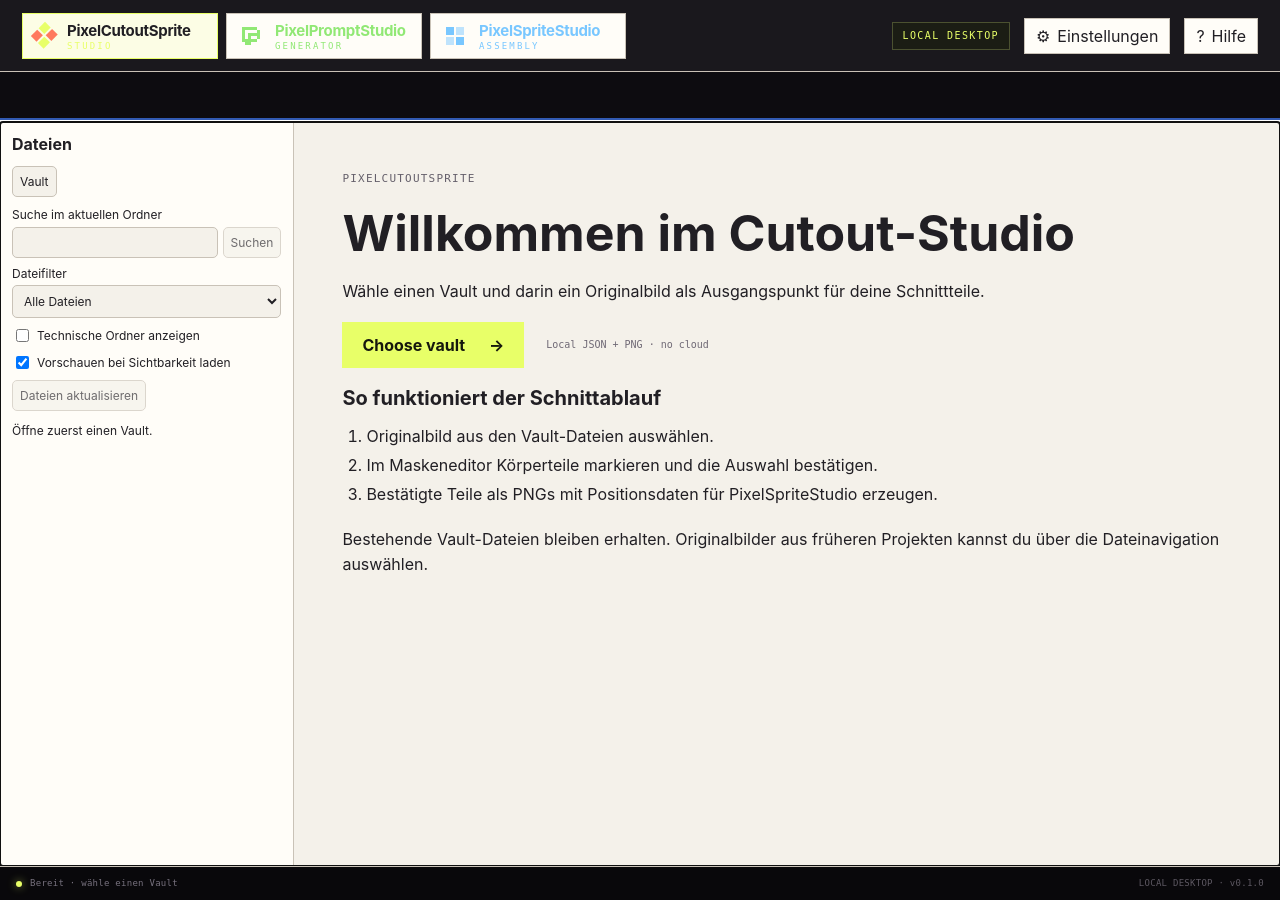
Test: integrated PixelPromptStudio › restores both the Cutout route and the independent prompt view
This screenshot has width=1280, height=900.
Expected: the heading "Willkommen im Cutout-Studio" is shown, [342,203,1075,263]
Click the button with aria-label "PixelPromptStudio Generator öffnen" at (324, 36), box [226,12,422,58]
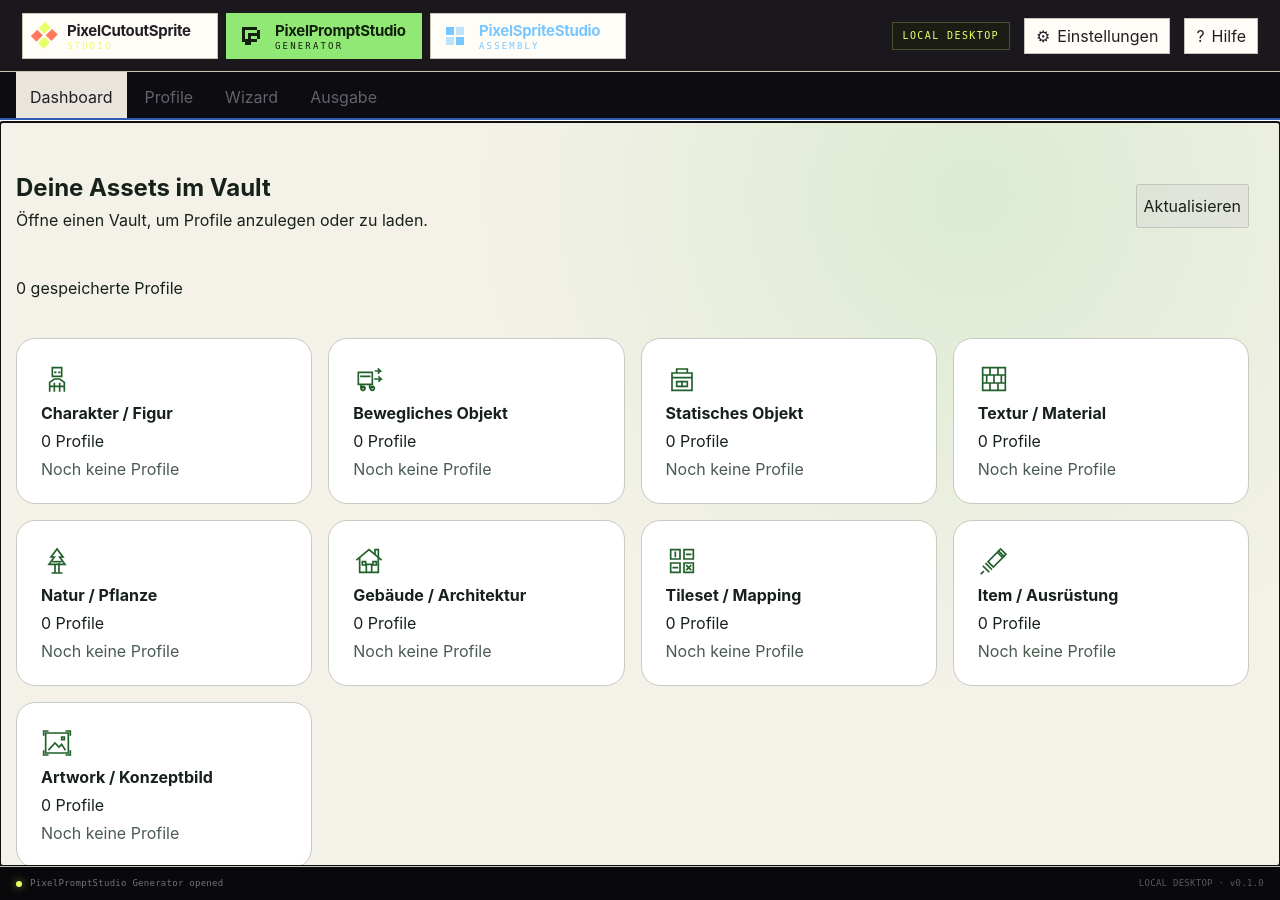
Click the button "Profile" at (169, 96), box [130,72,207,121]
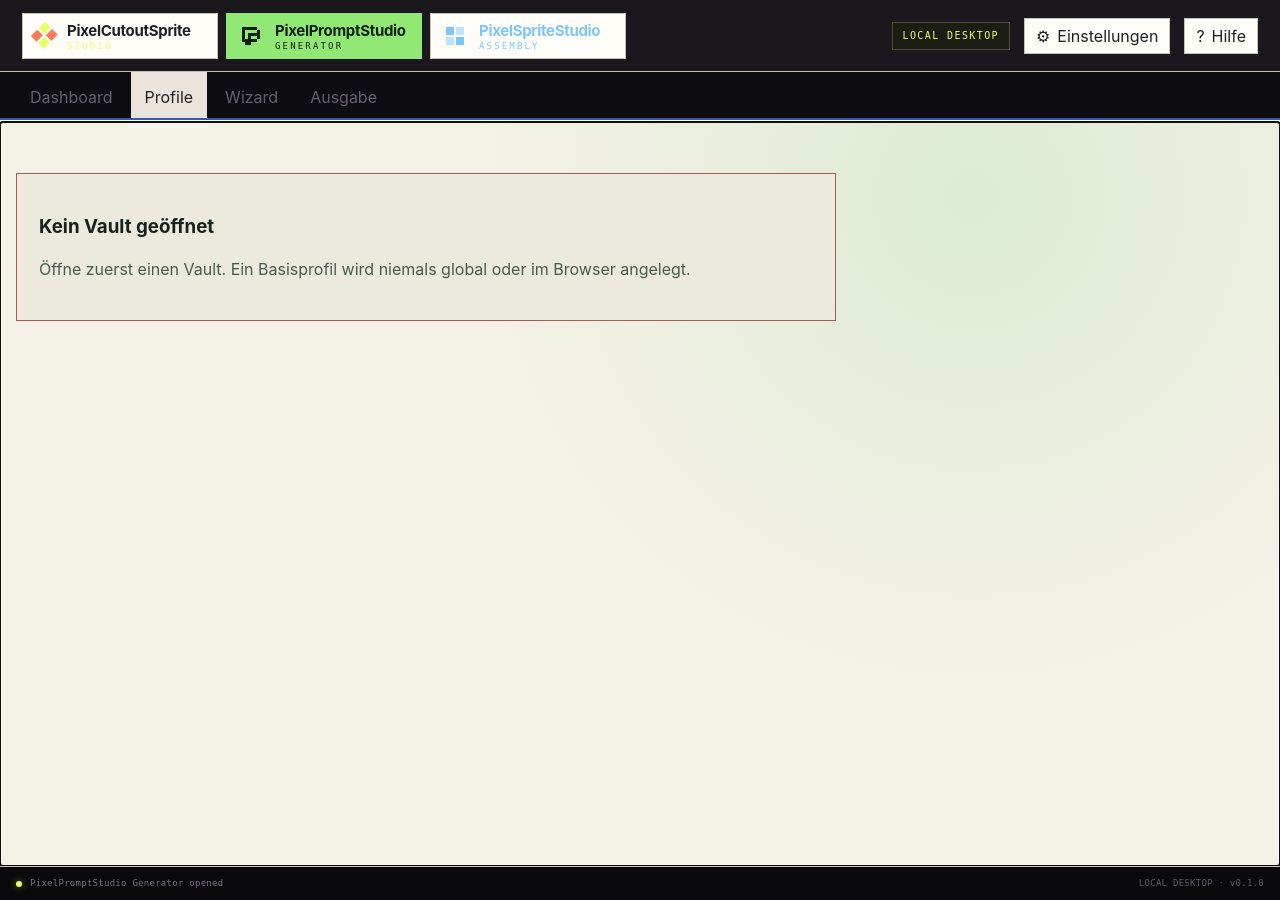
Expected: the heading "Kein Vault geöffnet" is shown, [39,215,214,238]
Click the button with aria-label "PixelCutoutSprite Studio öffnen" at (120, 36), box [22,12,218,58]
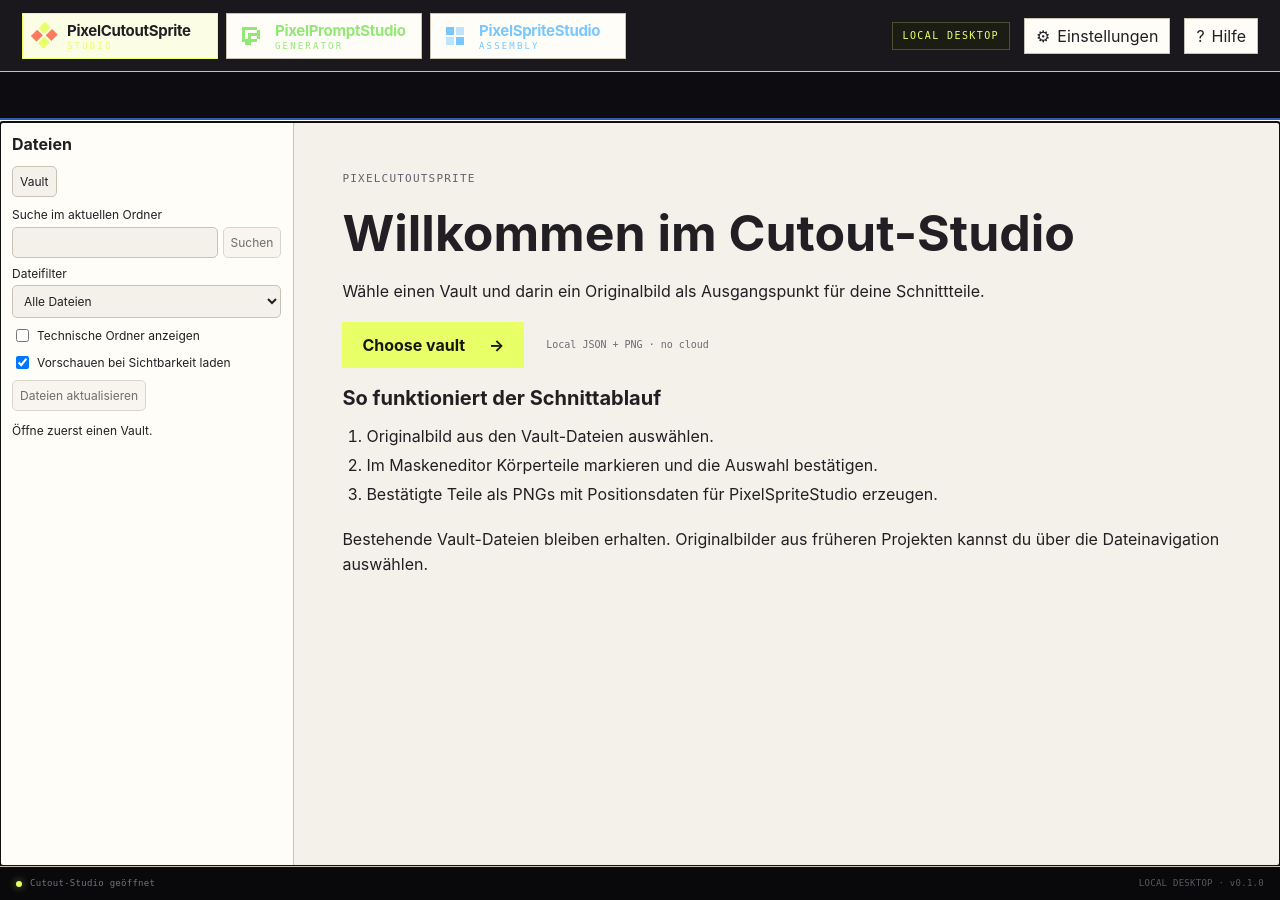
Expected: the heading "Willkommen im Cutout-Studio" is shown, [342,203,1075,263]
Click the button with aria-label "PixelPromptStudio Generator öffnen" at (324, 36), box [226,12,422,58]
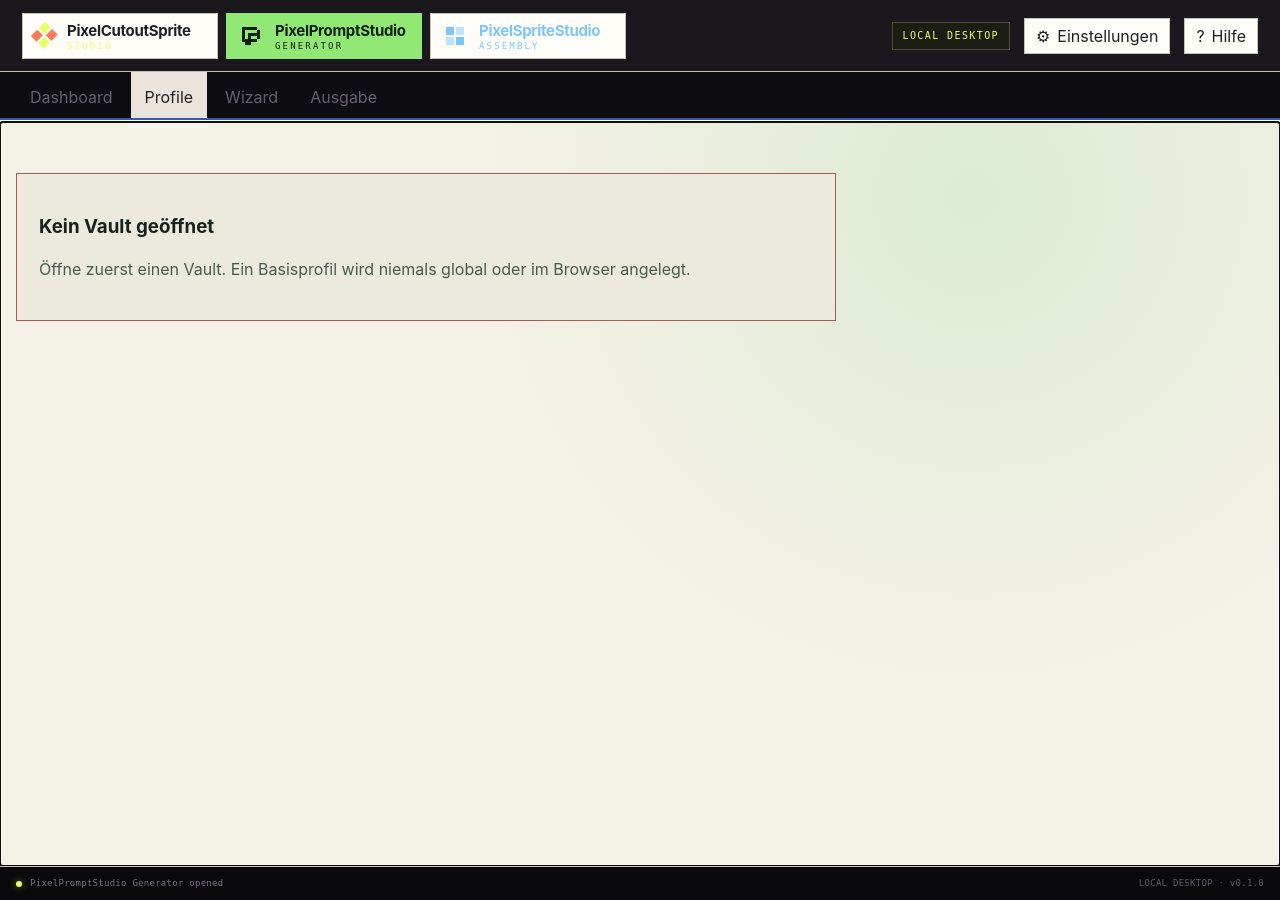
Expected: the heading "Kein Vault geöffnet" is shown, [39,215,214,238]
